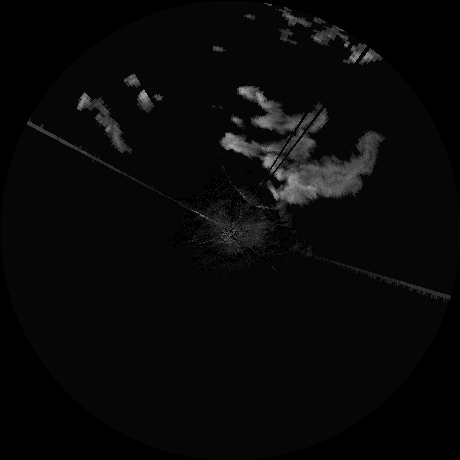frontgust: (237, 188, 283, 211)
